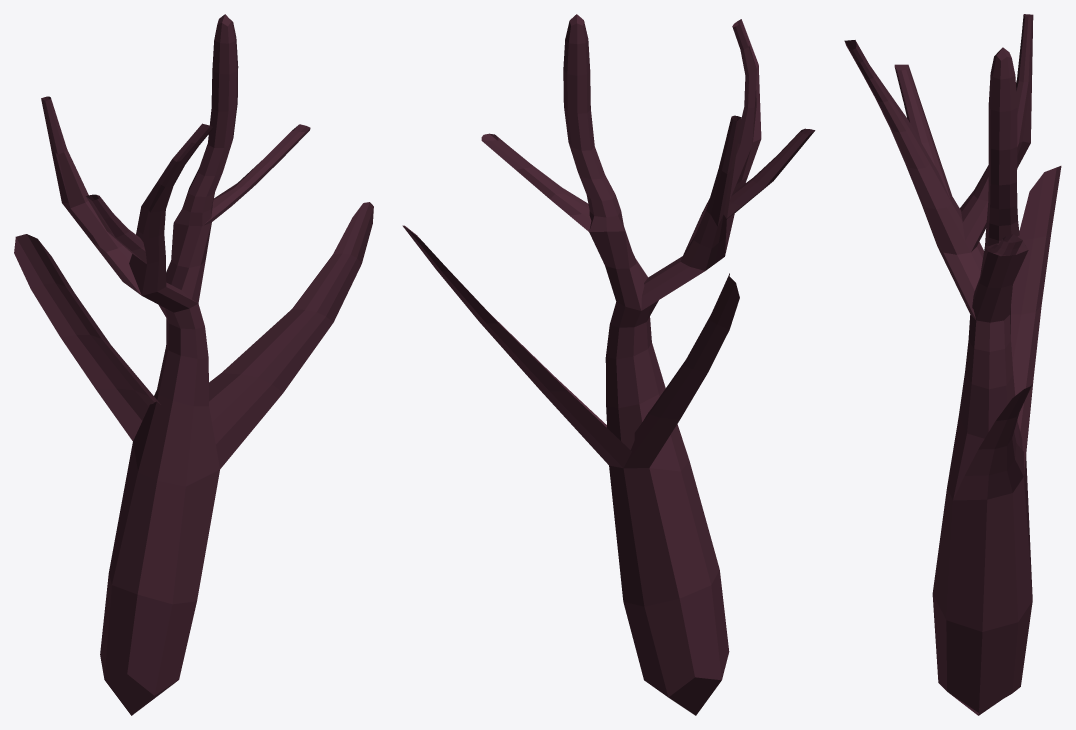
The model's file is treedecor.fbx.
3 views of the same model, side by side, from view 1: azimuth 30°, elevation 25°; view 2: azimuth 150°, elevation 25°; view 3: azimuth 270°, elevation 25° (orthographic). The views are drawn at different scales.
Visible parts, largest first — view 1: Cube; view 2: Cube; view 3: Cube.
Boxes of the visible parts, bbox=[...] form: Cube: bbox=[14, 14, 373, 715]; Cube: bbox=[402, 14, 815, 715]; Cube: bbox=[844, 14, 1061, 715].
Bounding box in the file's own units: 3403 × 6323 × 1718.
